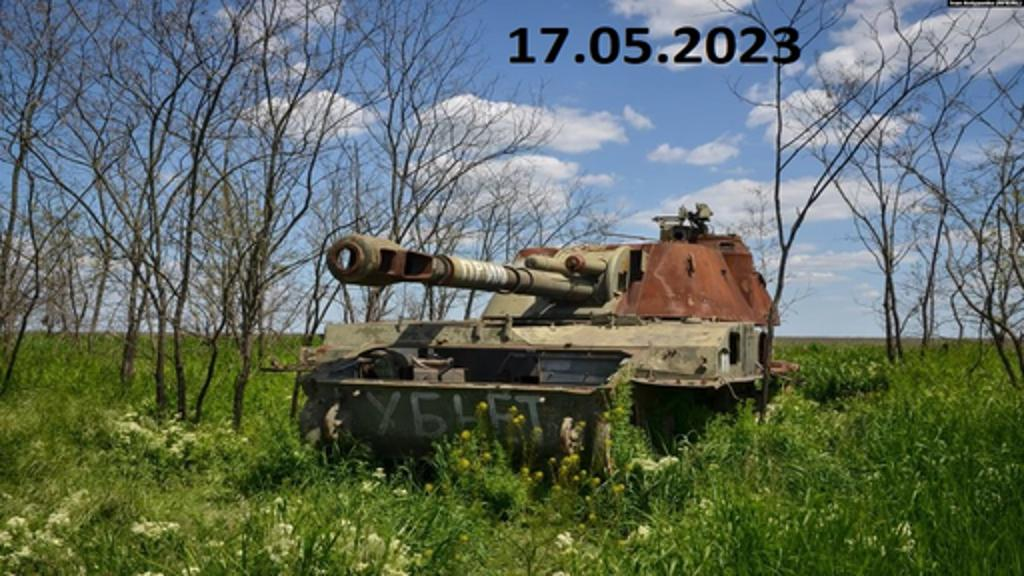ART: (294, 198, 782, 482)
